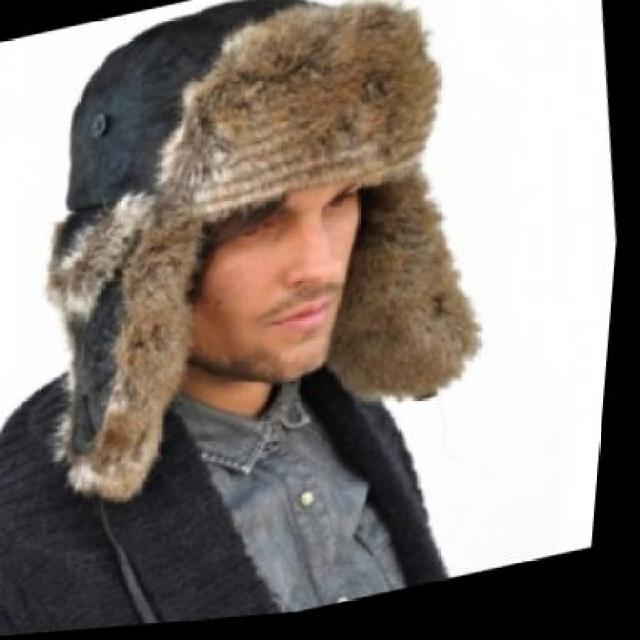hat: (49, 0, 491, 502)
